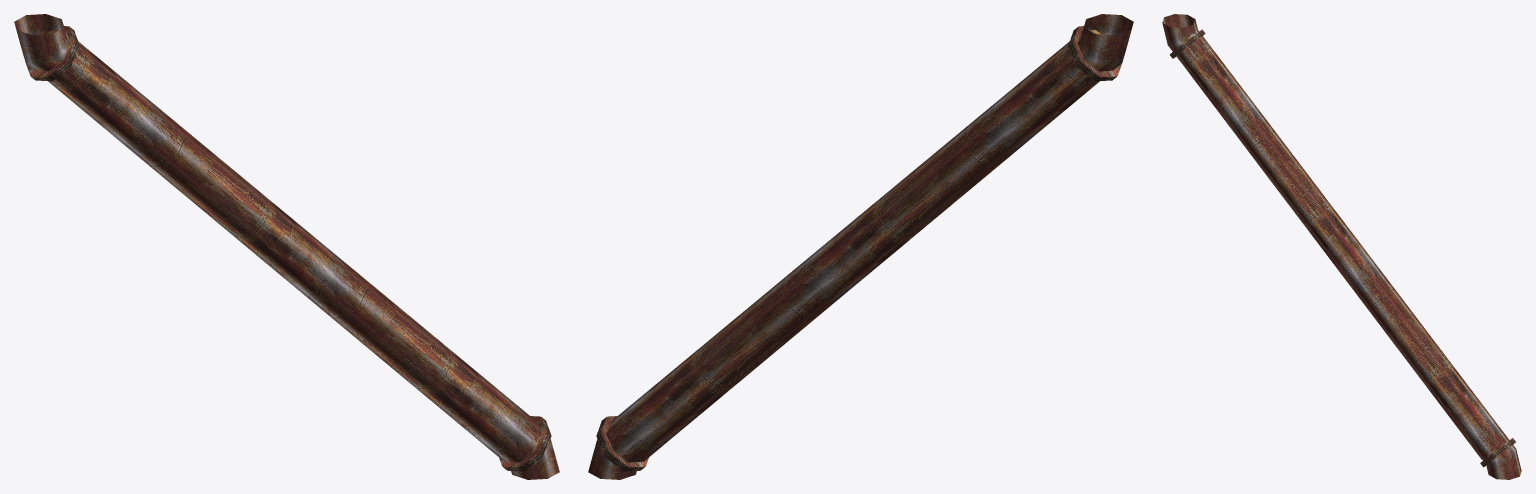
Rendered from 45_deg_rusty_8m.fbx.
The picture shows the model from 3 angles, left to right: view 1: azimuth 30°, elevation 25°; view 2: azimuth 150°, elevation 25°; view 3: azimuth 330°, elevation 25°; orthographic projection. The views are drawn at different scales.
Visible parts, largest first — view 1: mesh_0; view 2: mesh_0; view 3: mesh_0.
Part boxes in pixels (box(x1,y1,x2,y2)): mesh_0: box(14, 14, 559, 479); mesh_0: box(588, 14, 1133, 479); mesh_0: box(1162, 14, 1521, 479).
Size of the model in its own units: 600 by 600 by 60.93.
1 material, 1 textured.
